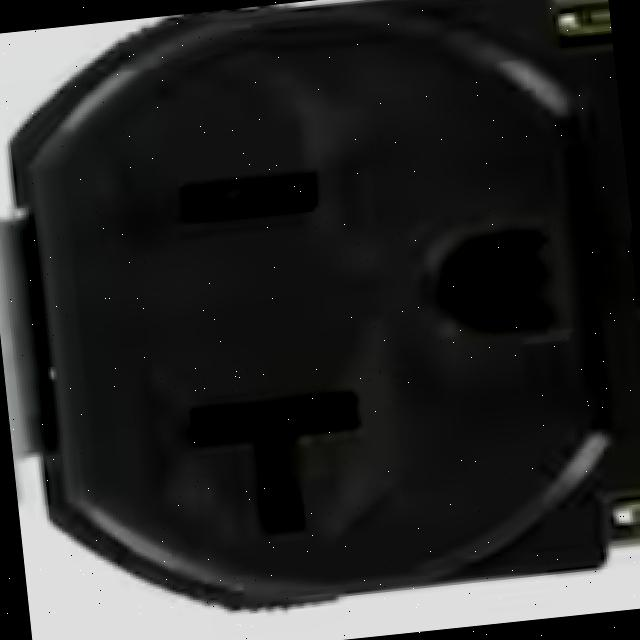type_b_tc: (1, 0, 613, 630)
